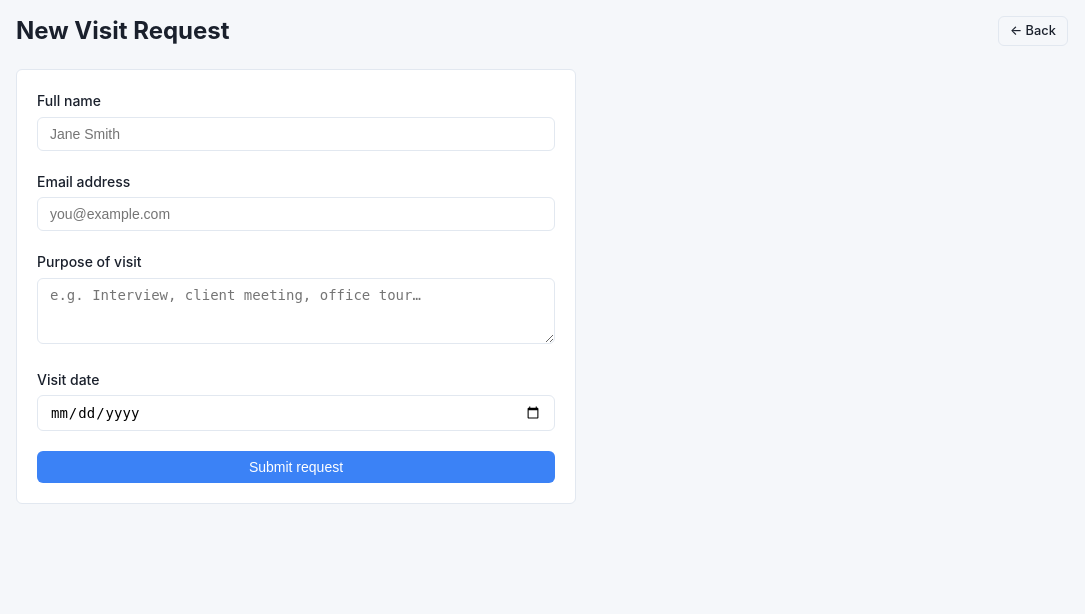
VisitRequestFormComponent › should show name required error when submitted empty
The image size is (1085, 614).
Click the button with test id "submit-btn": (296, 467) [37,451,555,483]
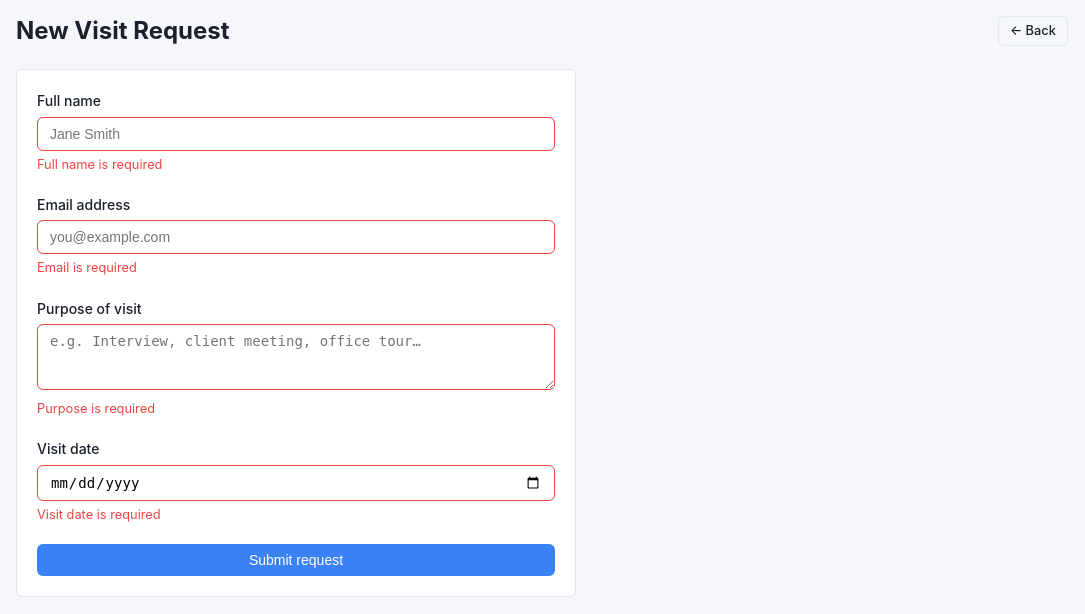
Check: the text with test id "name-error" shows "required", box [37,157,162,172]
